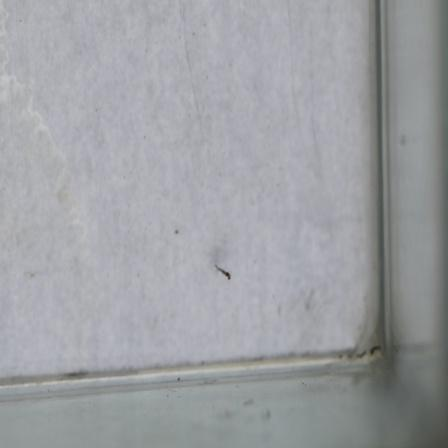Jentik-Nyamuk: (212, 262, 234, 285)
